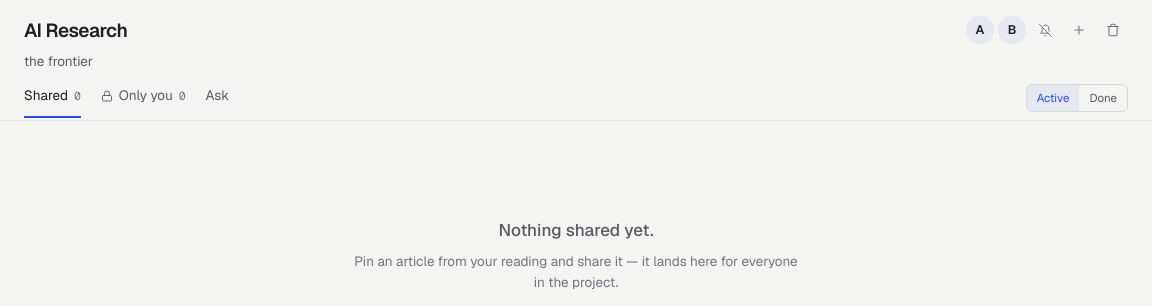
Test: ProjectPage › shows both empty states
This screenshot has width=1152, height=306.
Expected: the text "Nothing shared yet." is shown, x1=498 y1=217 x2=654 y2=243
Click the button "Only you 0" at [143, 102], box x1=101 y1=85 x2=186 y2=118
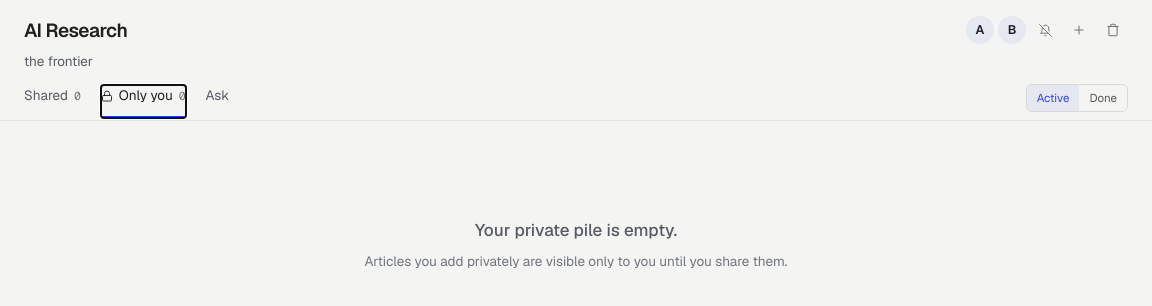
Result: the text "Your private pile is empty." is shown at x1=475 y1=217 x2=677 y2=243
